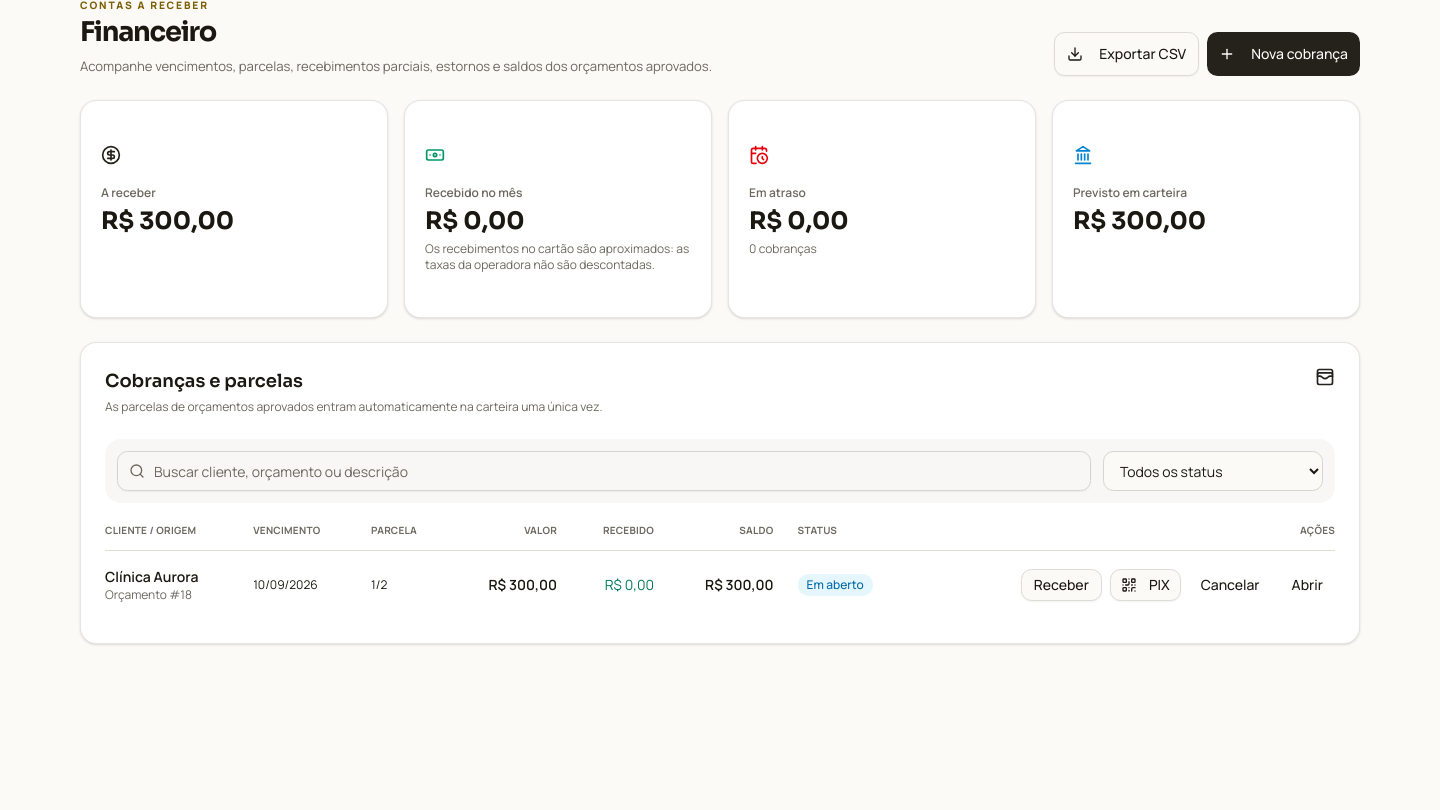
FinancePage › nomeia os filtros e os selects dos diálogos
The image size is (1440, 810).
Expected: the dropdown named "Filtrar cobranças por status" is shown, [1103, 451, 1323, 491]
Click the button "Nova cobrança" at (1284, 54), box [1207, 32, 1360, 76]
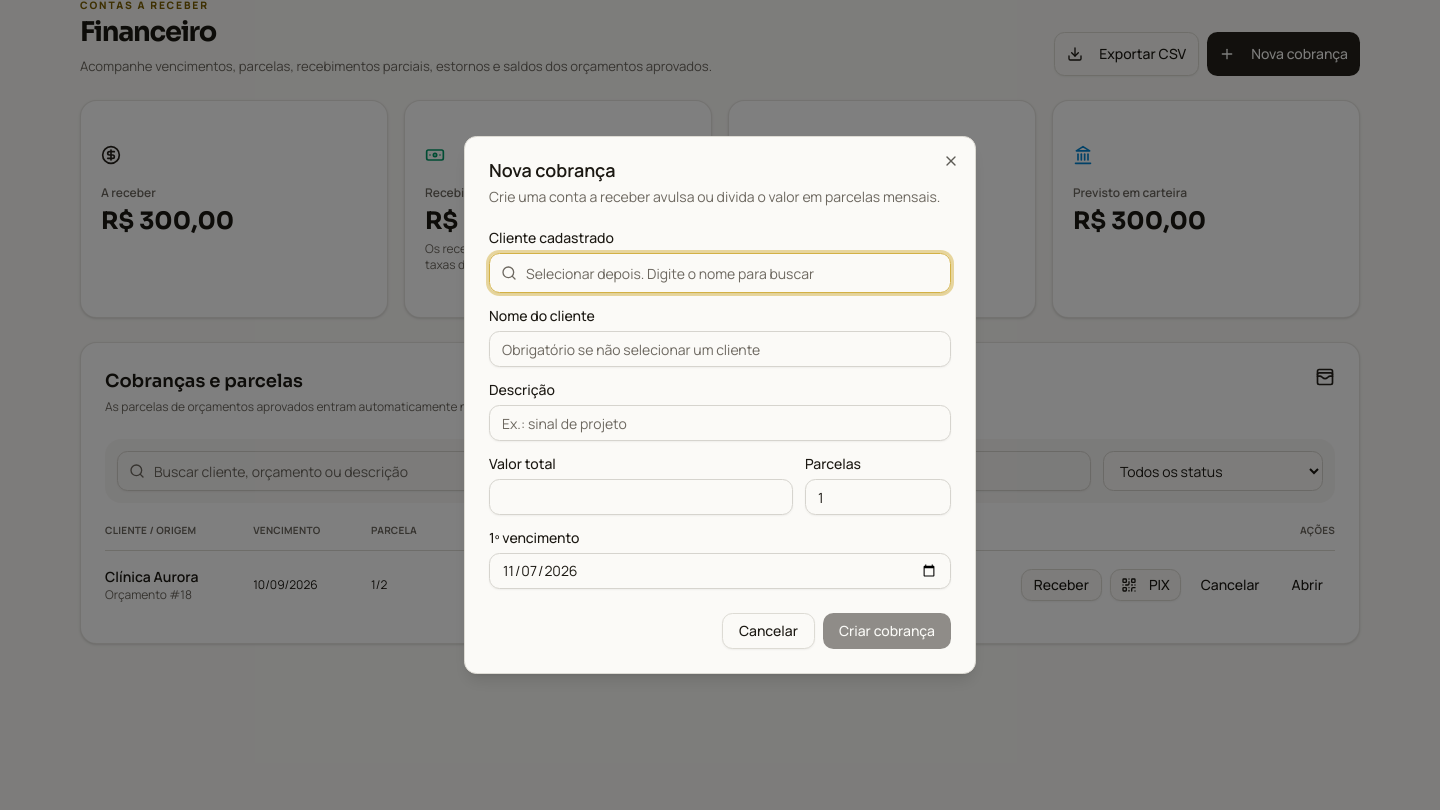
Result: the dropdown named "Cliente cadastrado" is shown at [489, 253, 951, 293]
